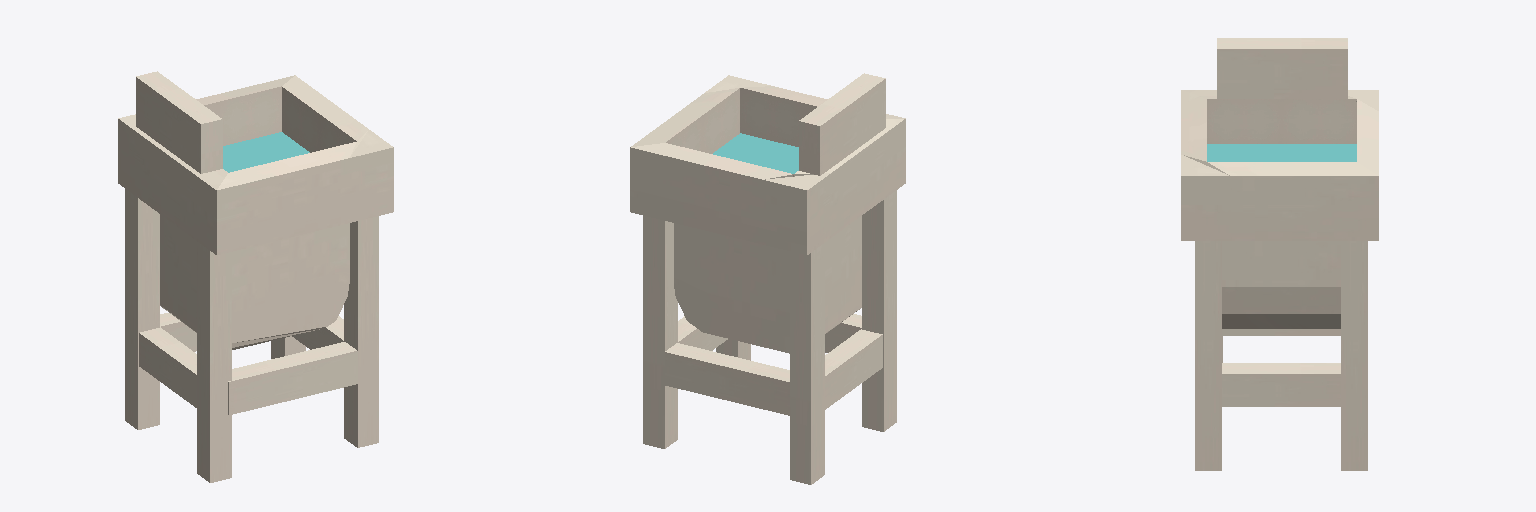
3 views of the same model, side by side, from view 1: azimuth 30°, elevation 25°; view 2: azimuth 150°, elevation 25°; view 3: azimuth 270°, elevation 25° (orthographic).
Size of the model in its own units: 5.62 by 10.64 by 5.41.
2 materials, 2 textured.